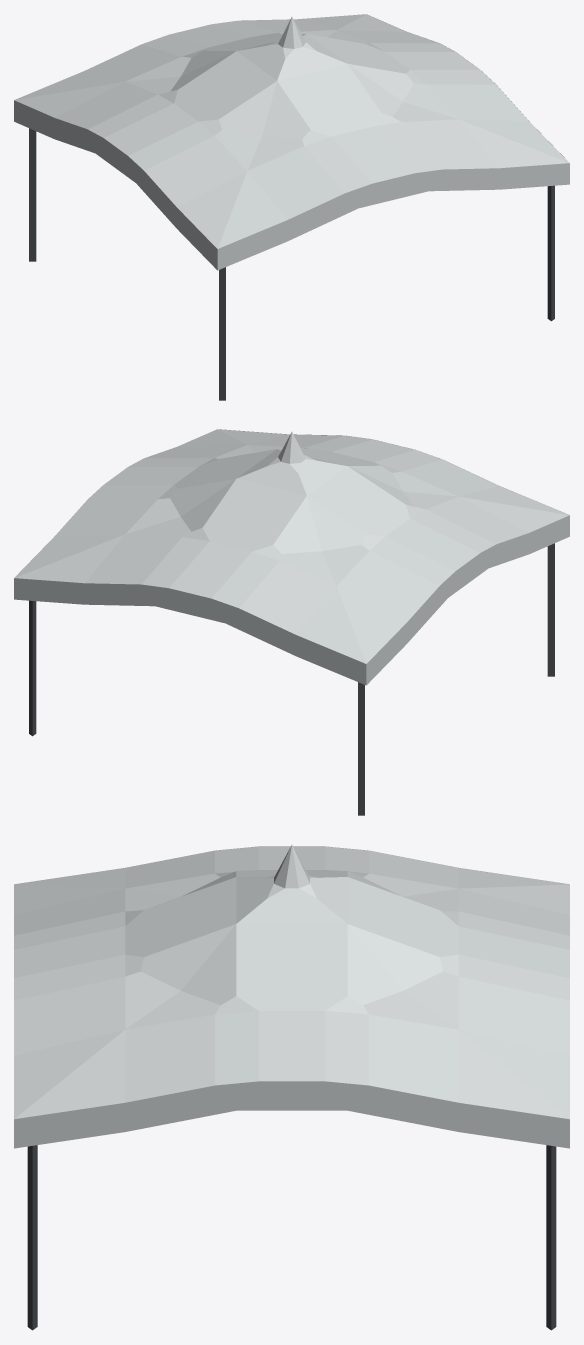
The model's file is dekatent.fbx.
3 renders of one model, top to bottom at view 1: azimuth 30°, elevation 25°; view 2: azimuth 150°, elevation 25°; view 3: azimuth 270°, elevation 25°, orthographic. The views are drawn at different scales.
Parts seen in each view (by area): view 1: 立方体, 円柱; view 2: 立方体, 円柱; view 3: 立方体, 円柱.
Part boxes in pixels (x1,y1,x2,y2): 立方体: (14,14,569,270); 円柱: (29,128,554,400); 立方体: (14,429,569,685); 円柱: (29,543,554,815); 立方体: (14,845,569,1148); 円柱: (27,1145,556,1330).
Bounding box in the file's own units: 412 × 306 × 412.
